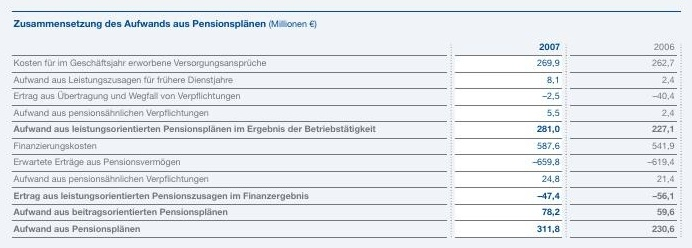table: (0, 0, 692, 248)
